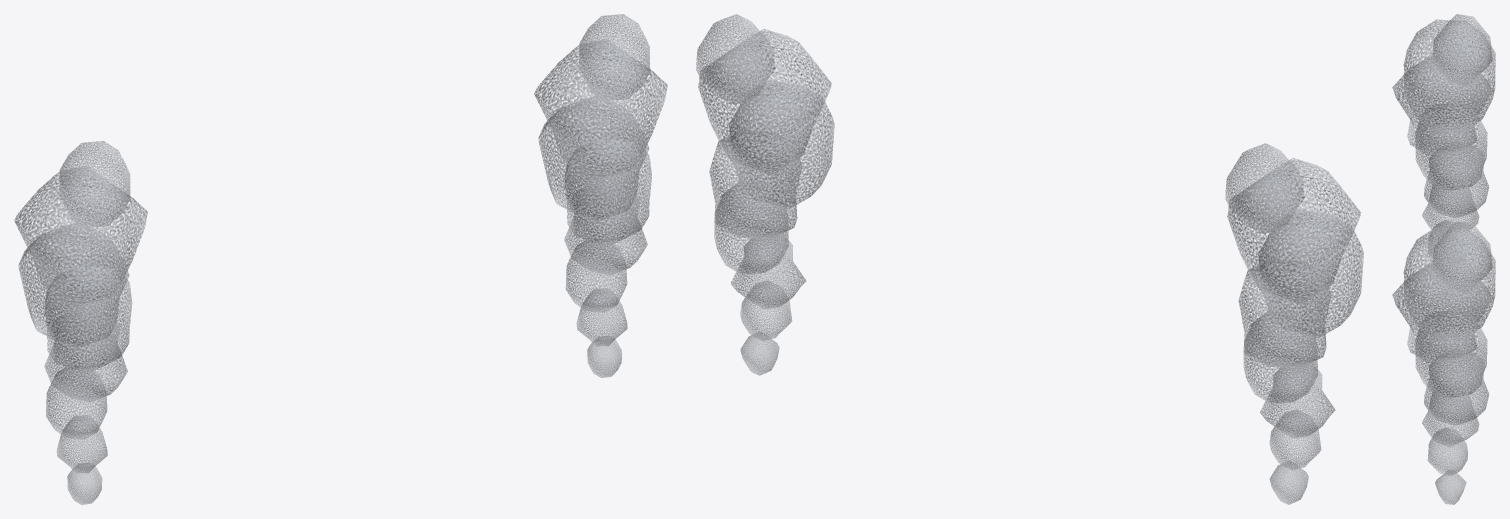
The model's file is humo_copal.gltf.
3 renders of one model, left to right at view 1: azimuth 30°, elevation 25°; view 2: azimuth 150°, elevation 25°; view 3: azimuth 270°, elevation 25°, orthographic. The views are drawn at different scales.
Parts seen in each view (by area): view 1: Humo_0_7, Humo_1_7, Humo_1_6, Humo_0_6, Humo_1_5, Humo_0_5, Humo_0_8, Humo_1_8, Humo_0_4, Humo_1_4, Humo_1_3, Humo_0_3 (+4 smaller); view 2: Humo_0_7, Humo_1_7, Humo_1_6, Humo_0_6, Humo_0_5, Humo_1_5, Humo_0_4, Humo_1_4, Humo_1_8, Humo_0_8, Humo_0_3, Humo_1_3 (+4 smaller); view 3: Humo_0_7, Humo_1_7, Humo_1_6, Humo_0_6, Humo_0_5, Humo_1_5, Humo_0_4, Humo_1_4, Humo_1_8, Humo_0_8, Humo_1_3, Humo_0_3 (+3 smaller).
Part boxes in pixels (box(x1,y1,x2,y2)): Humo_0_7: box(14, 166, 147, 308); Humo_1_7: box(534, 39, 667, 181); Humo_1_6: box(538, 95, 649, 222); Humo_0_6: box(18, 221, 129, 349); Humo_1_5: box(564, 135, 651, 245); Humo_0_5: box(44, 261, 132, 372); Humo_0_8: box(59, 141, 130, 227); Humo_1_8: box(579, 14, 650, 100); Humo_0_4: box(44, 309, 127, 401); Humo_1_4: box(564, 182, 647, 274); Humo_1_3: box(565, 238, 627, 312); Humo_0_3: box(46, 365, 107, 439); Humo_0_7: box(1227, 158, 1360, 304); Humo_1_7: box(698, 29, 831, 175); Humo_1_6: box(729, 80, 834, 208); Humo_0_6: box(1258, 209, 1363, 337); Humo_0_5: box(1238, 259, 1331, 368); Humo_1_5: box(709, 130, 801, 239); Humo_0_4: box(1243, 310, 1317, 403); Humo_1_4: box(714, 181, 788, 274); Humo_1_8: box(696, 14, 774, 104); Humo_0_8: box(1225, 143, 1304, 233); Humo_0_3: box(1260, 362, 1335, 438); Humo_1_3: box(731, 232, 806, 309); Humo_0_7: box(1403, 19, 1495, 133); Humo_1_7: box(1403, 227, 1495, 340); Humo_1_6: box(1392, 261, 1491, 362); Humo_0_6: box(1392, 54, 1491, 155); Humo_0_5: box(1415, 101, 1487, 191); Humo_1_5: box(1415, 309, 1487, 398); Humo_0_4: box(1424, 142, 1488, 218); Humo_1_4: box(1424, 349, 1488, 425); Humo_1_8: box(1432, 221, 1492, 293); Humo_0_8: box(1432, 14, 1492, 85); Humo_1_3: box(1422, 385, 1479, 447); Humo_0_3: box(1422, 177, 1479, 235).
Size of what is drawn, in the model's own units: 2.32 by 1.21 by 0.4004.
Materials: 1 (1 with a texture image).
